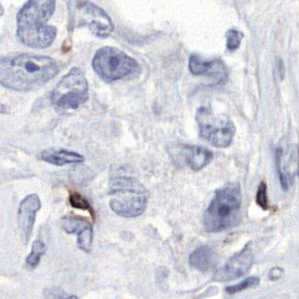Lymphocyte: (67, 191, 95, 213)
